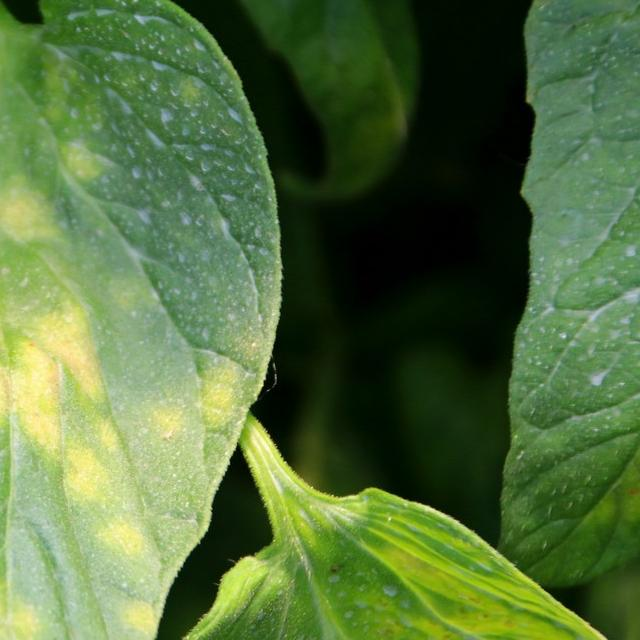Tomato mold leaf: (0, 0, 267, 640)
